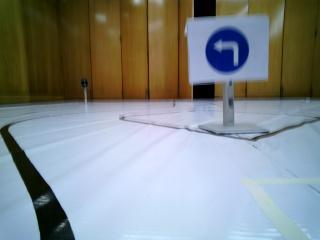left: (189, 20, 267, 80)
